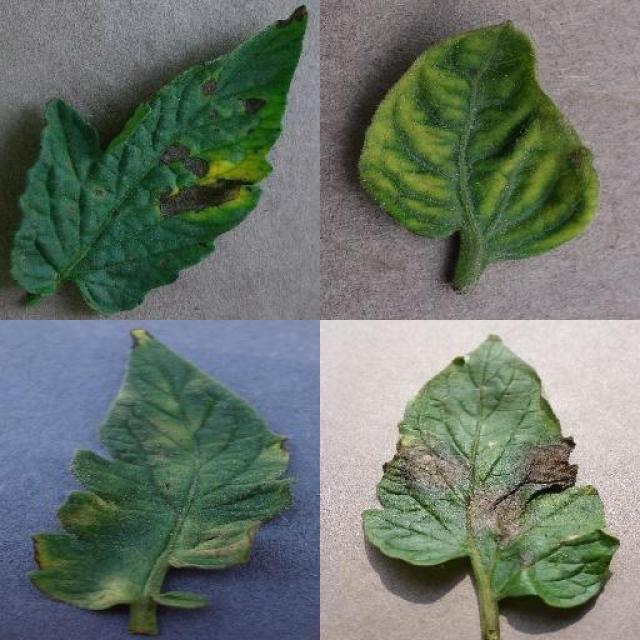Early Blight: (8, 2, 312, 318)
Late Blight: (364, 336, 621, 609)
